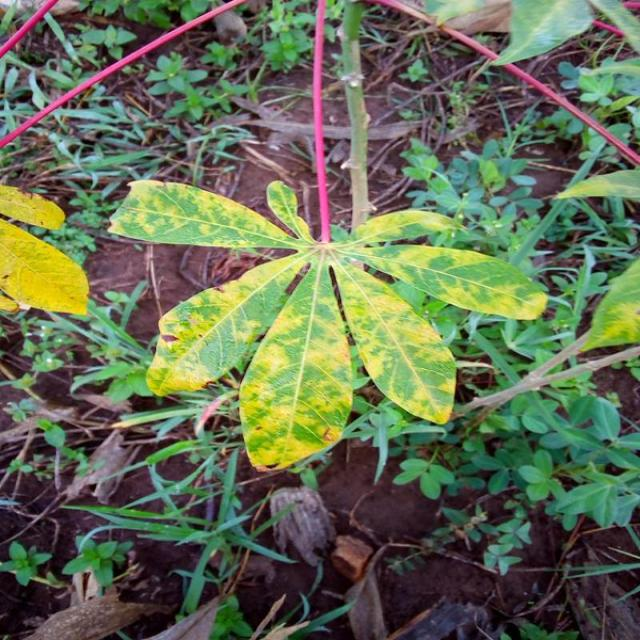cassava leaf: (107, 173, 547, 472), (238, 258, 354, 472), (0, 216, 90, 317)
